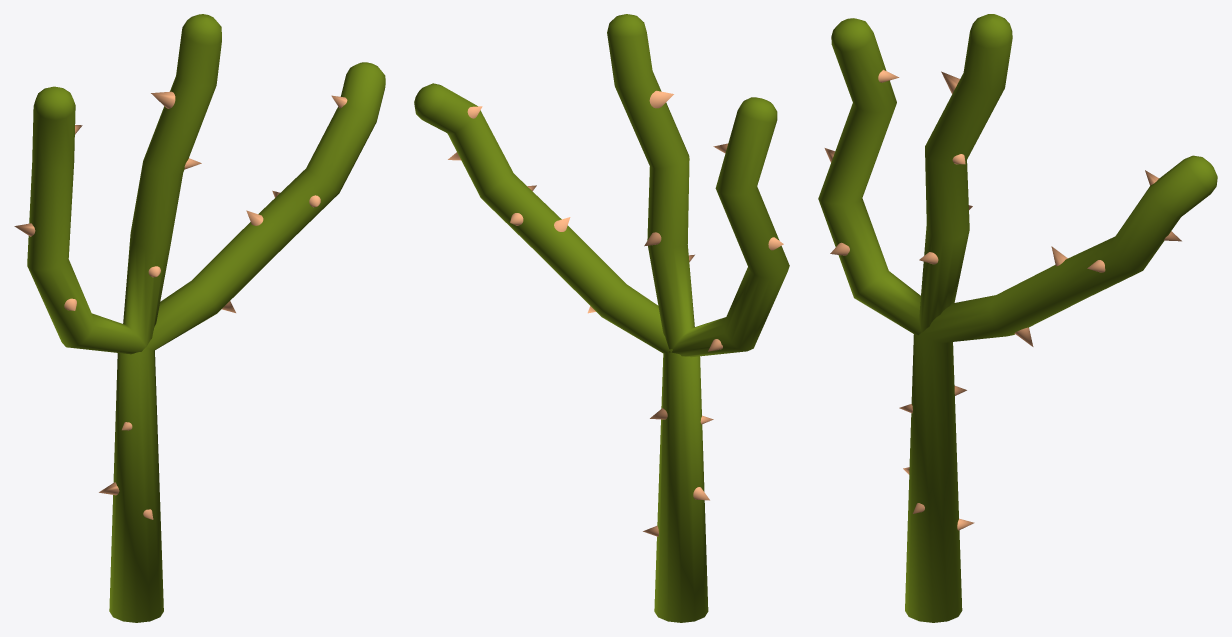
Rendered from cactus_2.fbx.
3 renders of one model, left to right at view 1: azimuth 30°, elevation 25°; view 2: azimuth 150°, elevation 25°; view 3: azimuth 330°, elevation 25°, orthographic. The views are drawn at different scales.
Parts seen in each view (by area): view 1: cacto; view 2: cacto; view 3: cacto.
Part boxes in pixels (box(x1,y1,x2,y2)): cacto: box(14, 14, 385, 622); cacto: box(414, 14, 789, 622); cacto: box(818, 14, 1217, 622).
Size of the model in its own units: 198 by 299 by 39.84.
